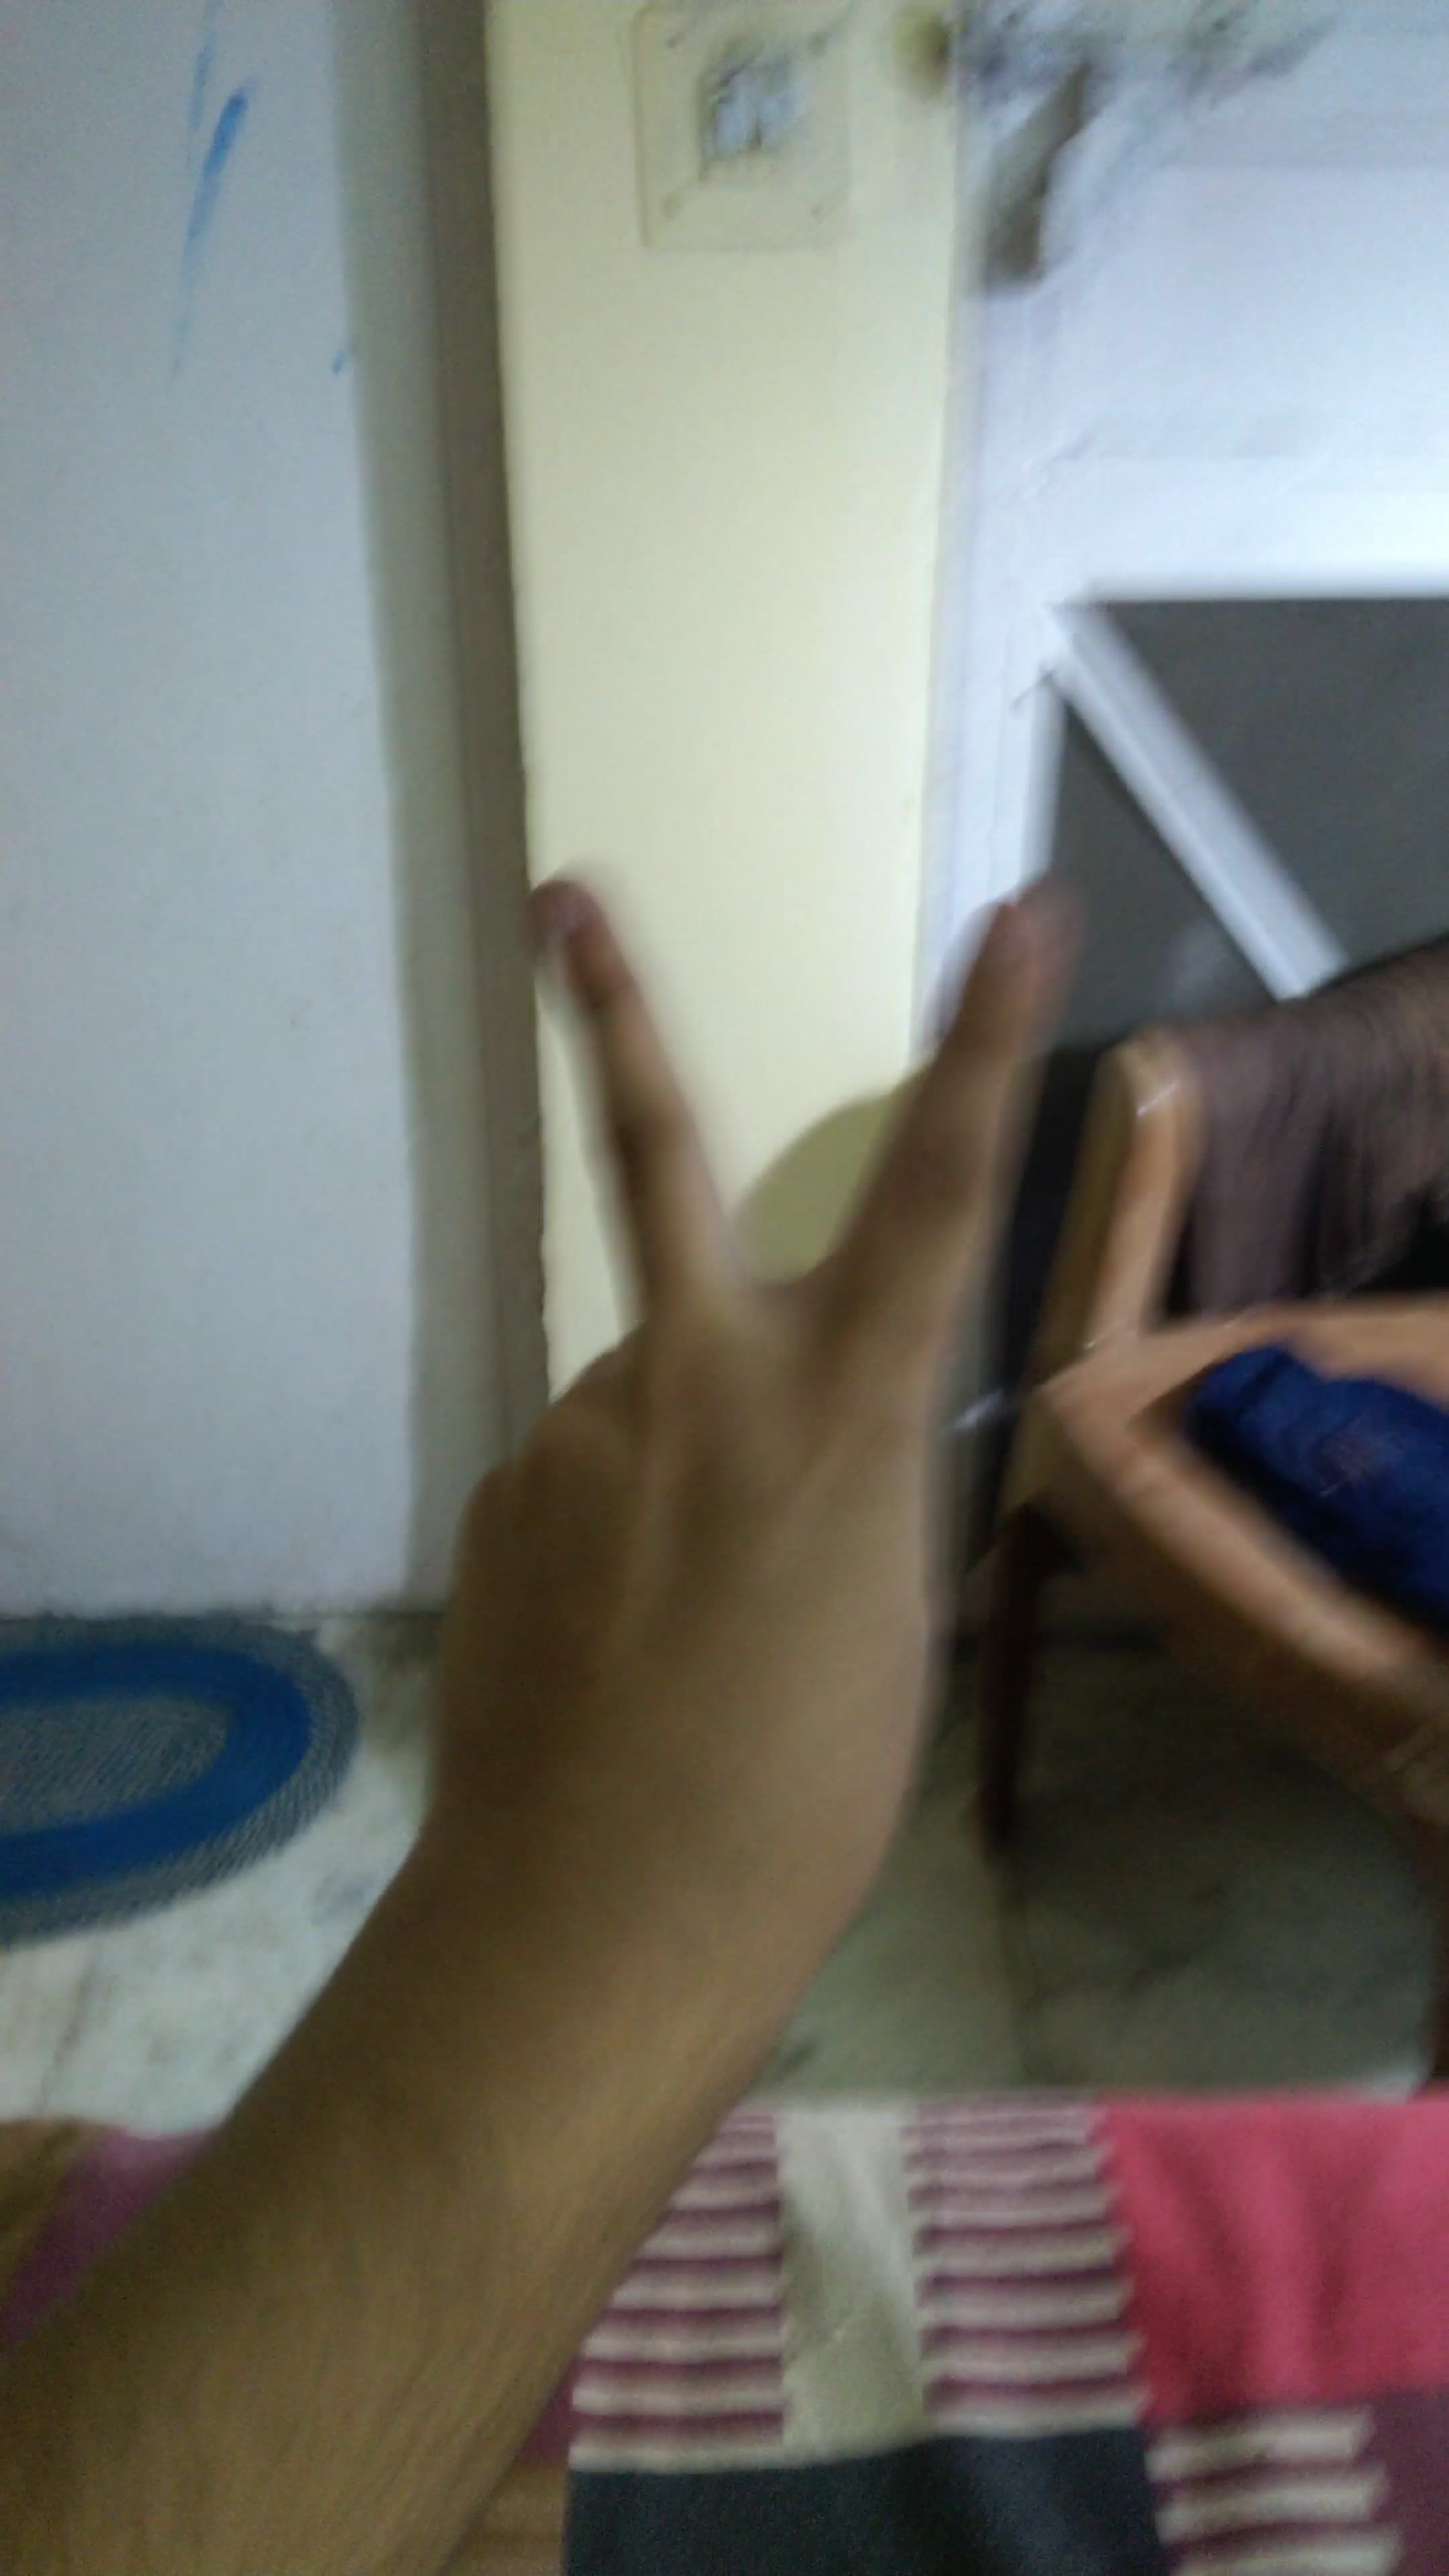hand: (340, 837, 1146, 2001)
